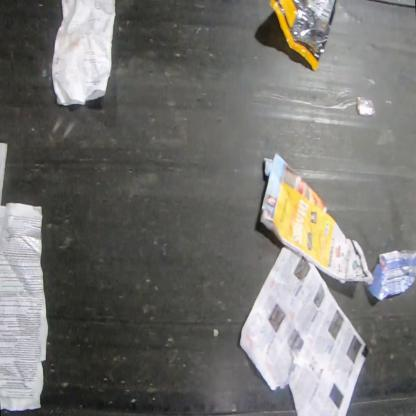cardboard: (259, 149, 374, 286)
soft_plastic: (268, 0, 337, 73), (366, 249, 415, 304)
